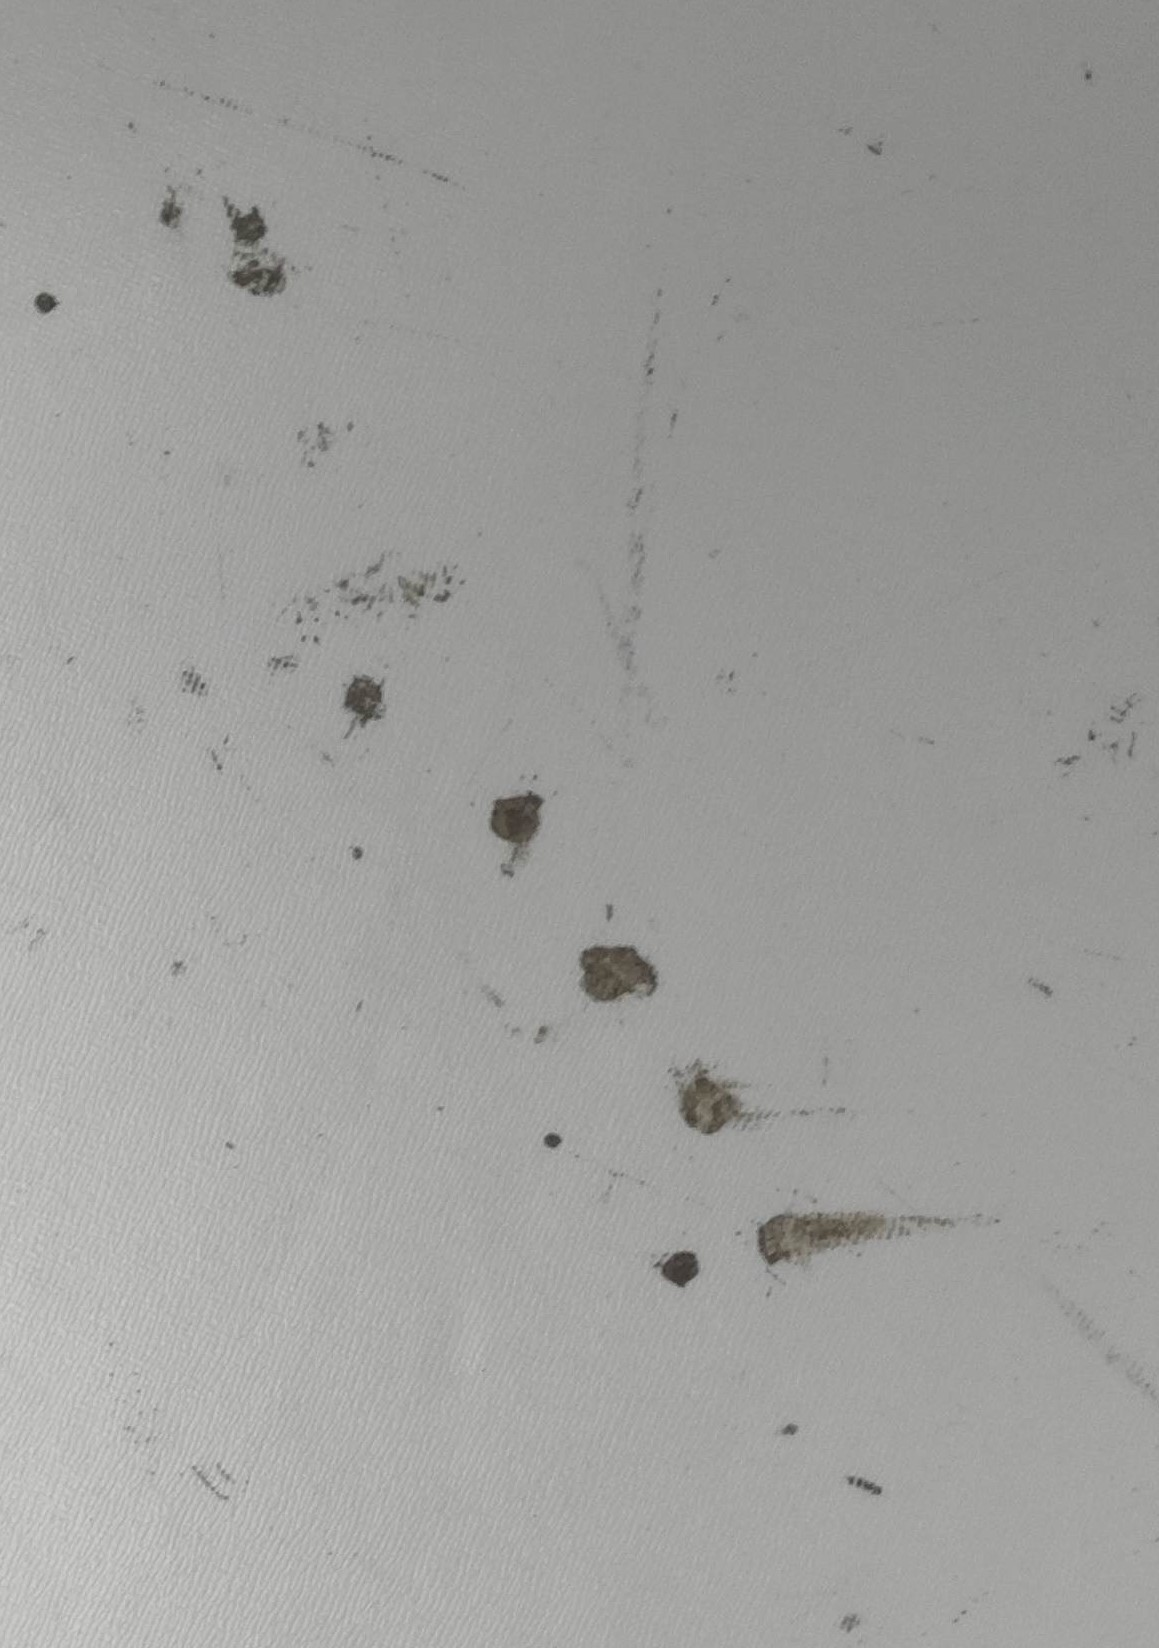grey spot: (756, 1212, 955, 1265), (225, 199, 296, 296), (664, 1056, 743, 1136), (578, 944, 659, 1002), (490, 790, 543, 877), (341, 671, 385, 737), (654, 1250, 697, 1291), (159, 188, 182, 226), (34, 292, 58, 314), (544, 1133, 563, 1148)
